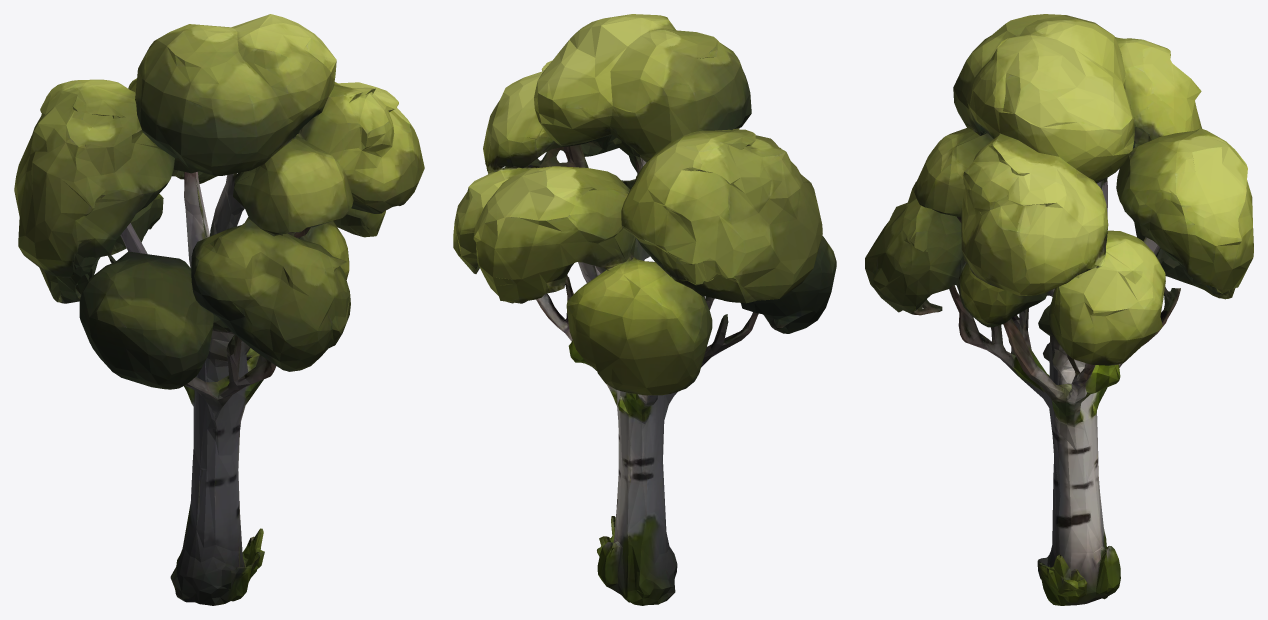
Rendered from birch.glb.
The picture shows the model from 3 angles, left to right: view 1: azimuth 30°, elevation 25°; view 2: azimuth 150°, elevation 25°; view 3: azimuth 270°, elevation 25°; orthographic projection. The views are drawn at different scales.
Visible parts, largest first — view 1: world; view 2: world; view 3: world.
Part boxes in pixels (box(x1,y1,x2,y2)): world: box(14, 14, 424, 605); world: box(453, 14, 836, 605); world: box(865, 14, 1253, 605).
Size of the model in its own units: 0.656 by 0.9984 by 0.6163.
Materials: 1 (1 with a texture image).
